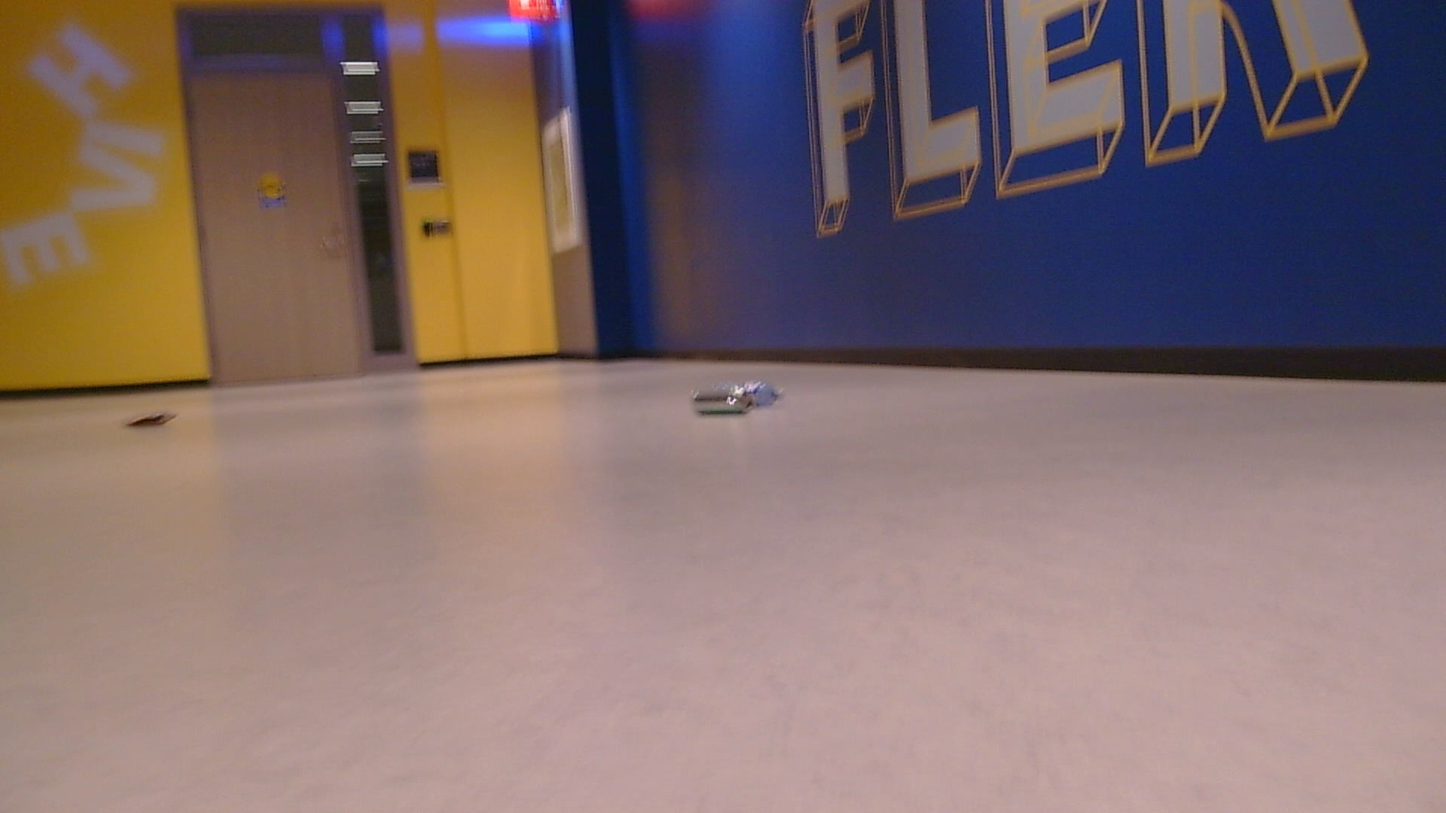can: (688, 373, 791, 420), (117, 400, 194, 431)
